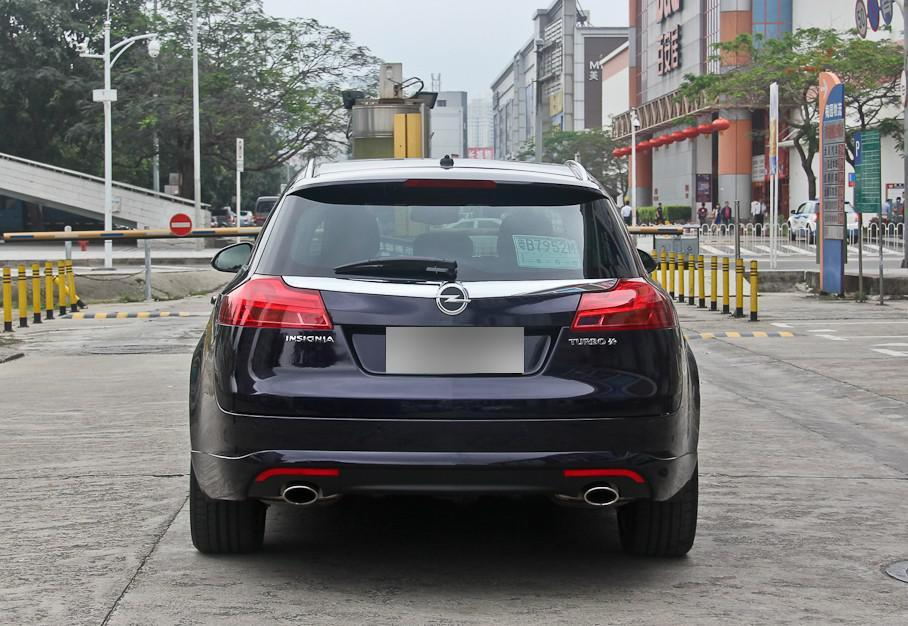Wagon: (190, 156, 700, 558)
